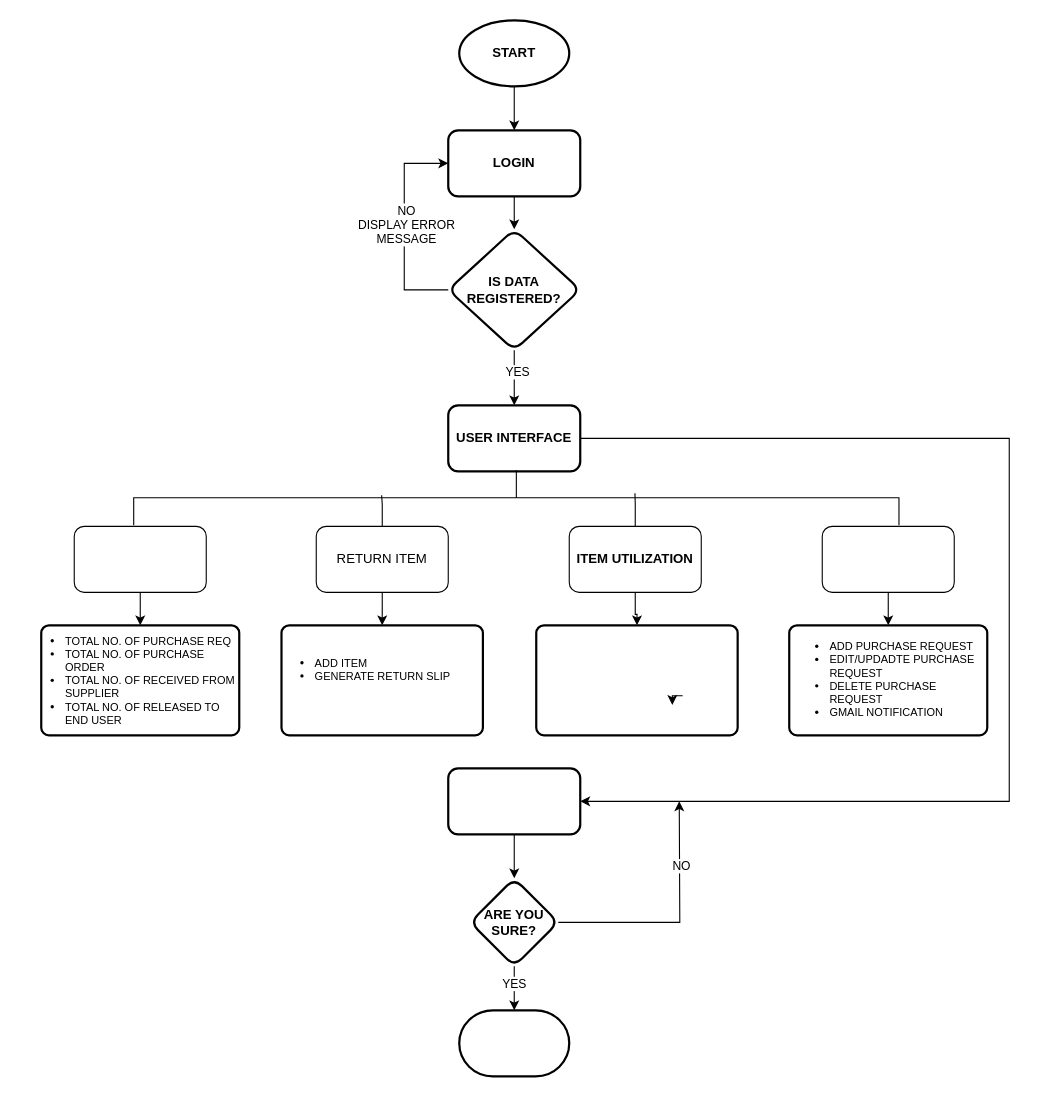
Image size: 1037x1096. Some labels were removed from this diagram. Each missing label, with the box of its shape:
DASHBOARD: (73, 525, 206, 592)
END: (458, 1009, 570, 1077)
LOGOUT: (447, 767, 581, 835)
PURCHASE REQUEST MANGEMENT: (821, 525, 954, 592)
SHOW RECOMMENDED ITEM(PER MONT) SHOW RECOMMENDED ITEM (OVEALL): (535, 624, 738, 736)
